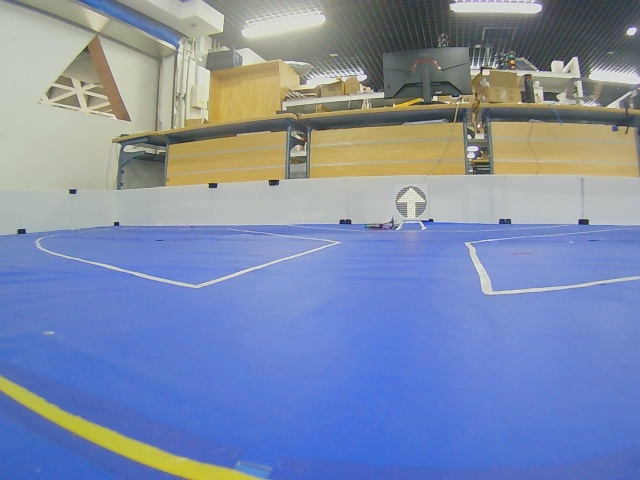straight_yellow: (396, 186, 426, 219)
